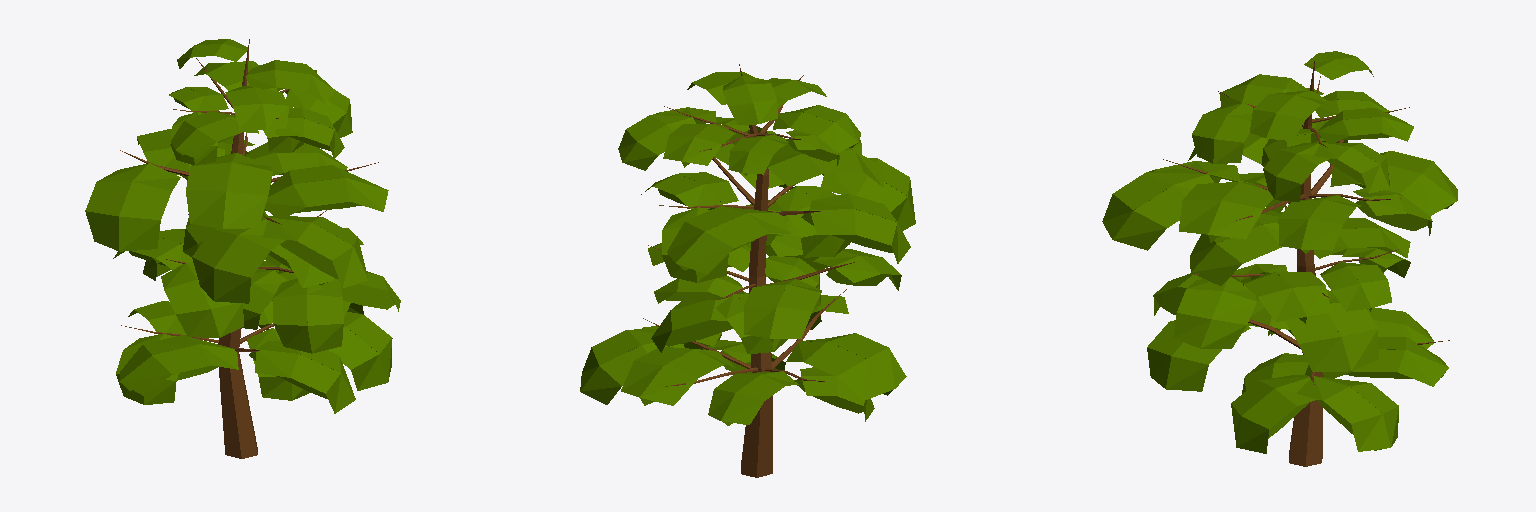
Rendered from tree3.obj.
3 views of the same model, side by side, from view 1: azimuth 30°, elevation 25°; view 2: azimuth 150°, elevation 25°; view 3: azimuth 270°, elevation 25° (orthographic).
Visible parts, largest first — view 1: tree_3; view 2: tree_3; view 3: tree_3.
Boxes of the visible parts, box(x1,y1,x2,y2) form: tree_3: box(85, 39, 400, 458); tree_3: box(580, 64, 915, 477); tree_3: box(1102, 51, 1457, 466).
Size of the model in its own units: 5.98 by 7.92 by 6.26.